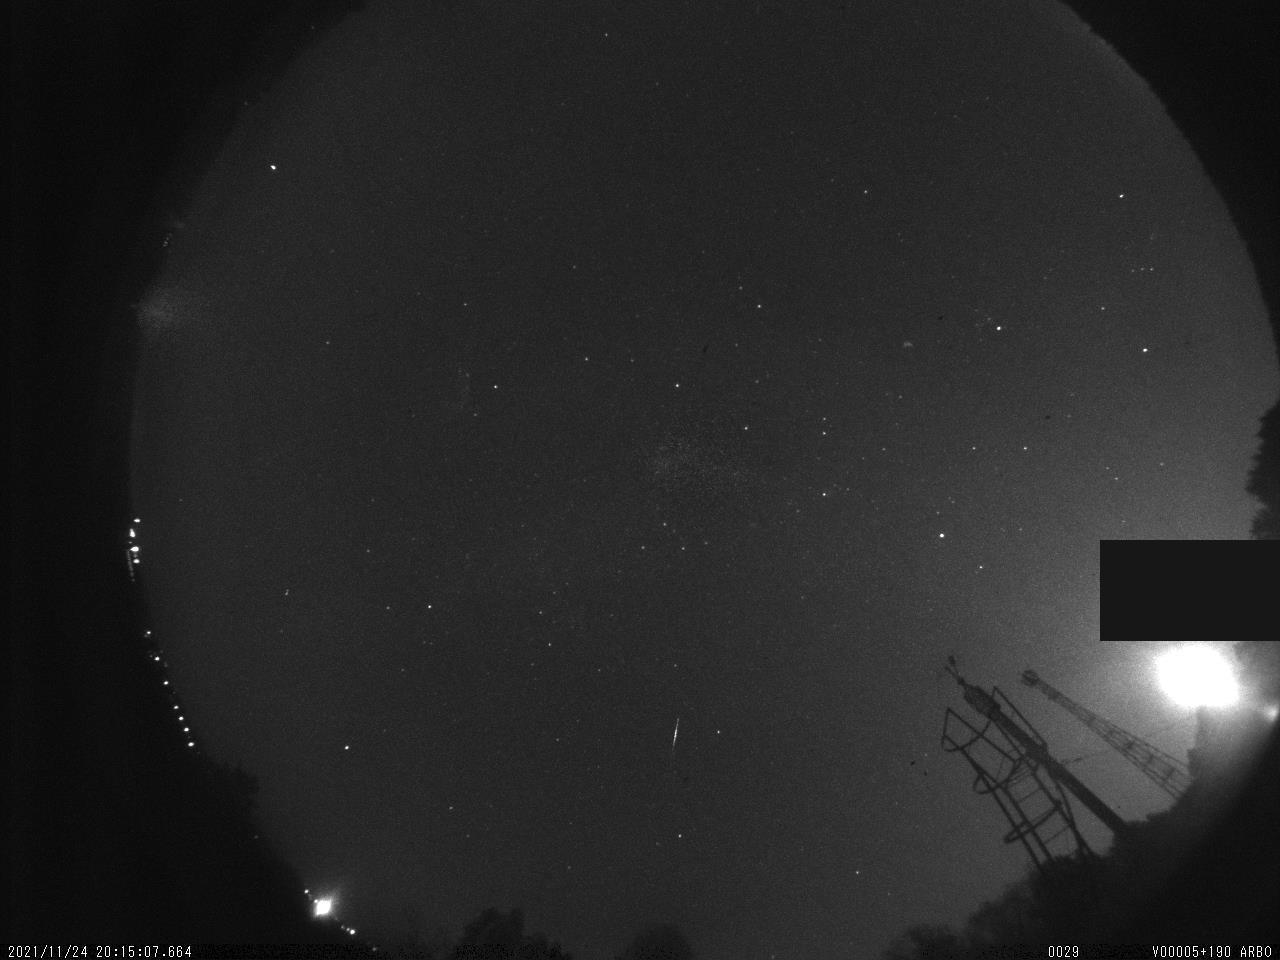meteor: (664, 707, 694, 749)
